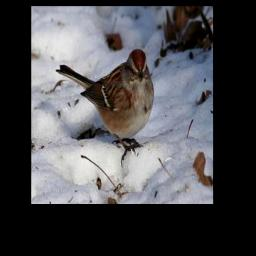Sparrow: (54, 44, 155, 169)
